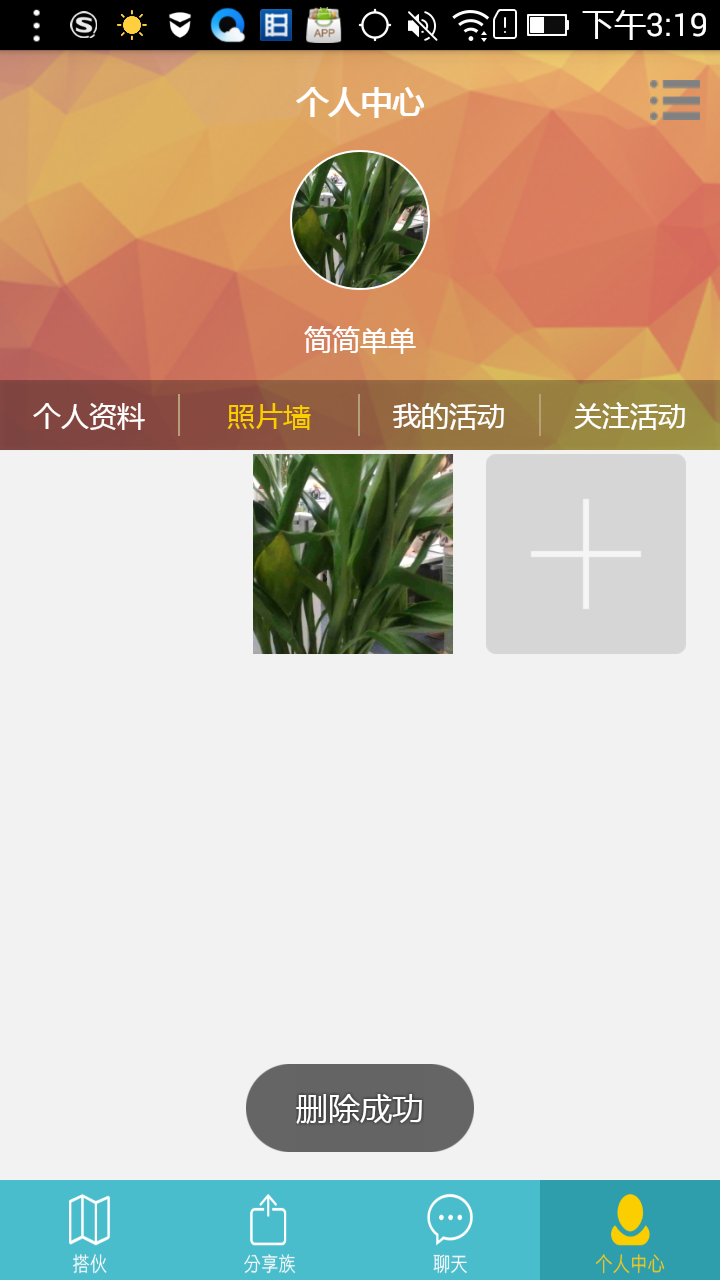alert: (235, 1060, 492, 1163)
imgbutton: (640, 69, 714, 137)
nav: (8, 1177, 715, 1280), (8, 380, 720, 454)
